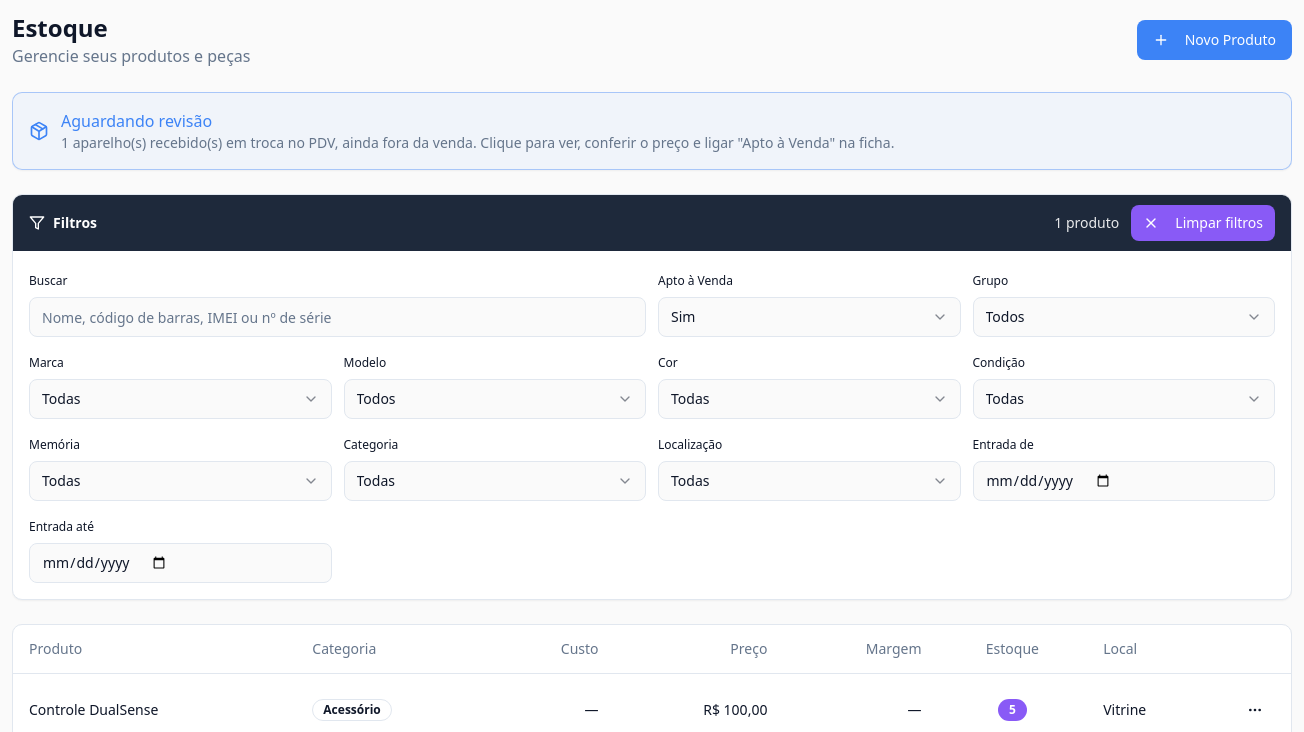
it: Estoque: aparelho recebido em troca esperando revisão › com o filtro "não apto", a troca tem a etiqueta certa e o excluído vira "Inativo"
The image size is (1304, 732).
What coordinates should you click on to do the following:
click the text "Aguardando revisão"
I would click on:
 (137, 121)
Its box is [61, 110, 212, 132].
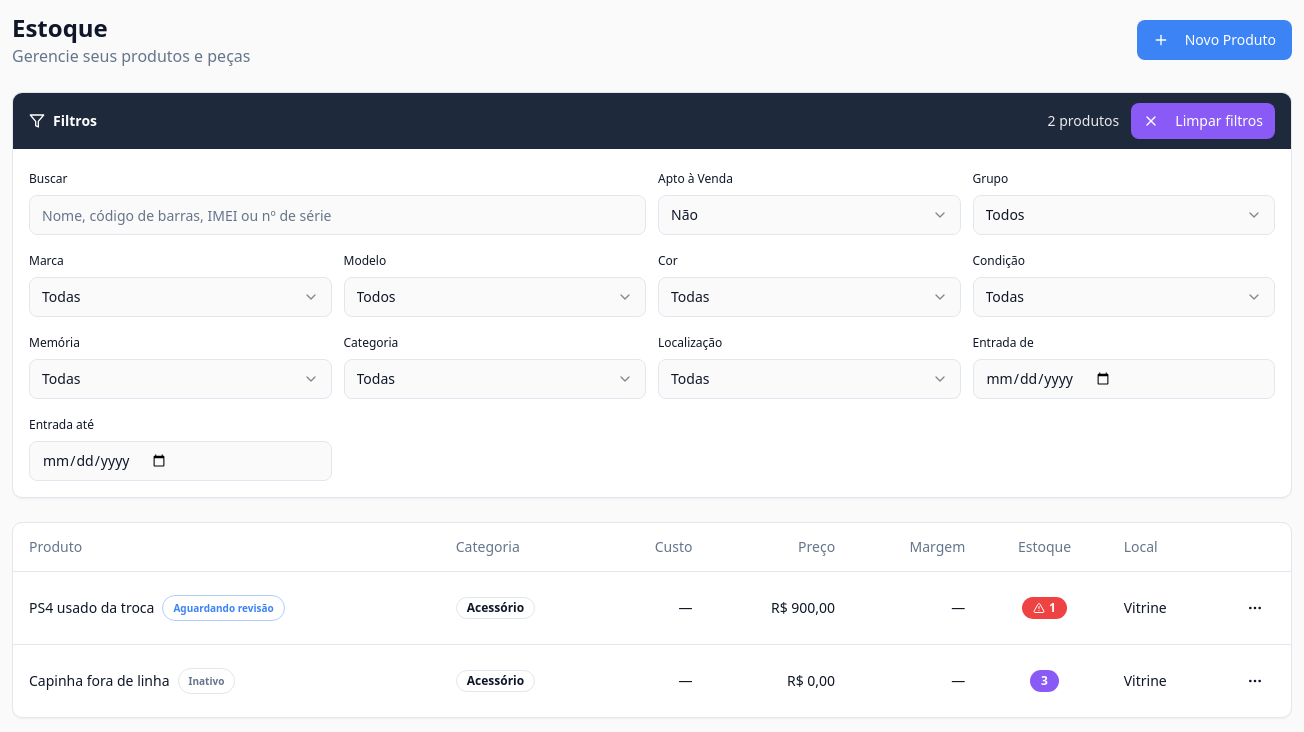
Check: the text "Aguardando revisão" is shown, box [162, 594, 285, 620]
Check: the text "Inativo" is shown, box [178, 668, 235, 694]
